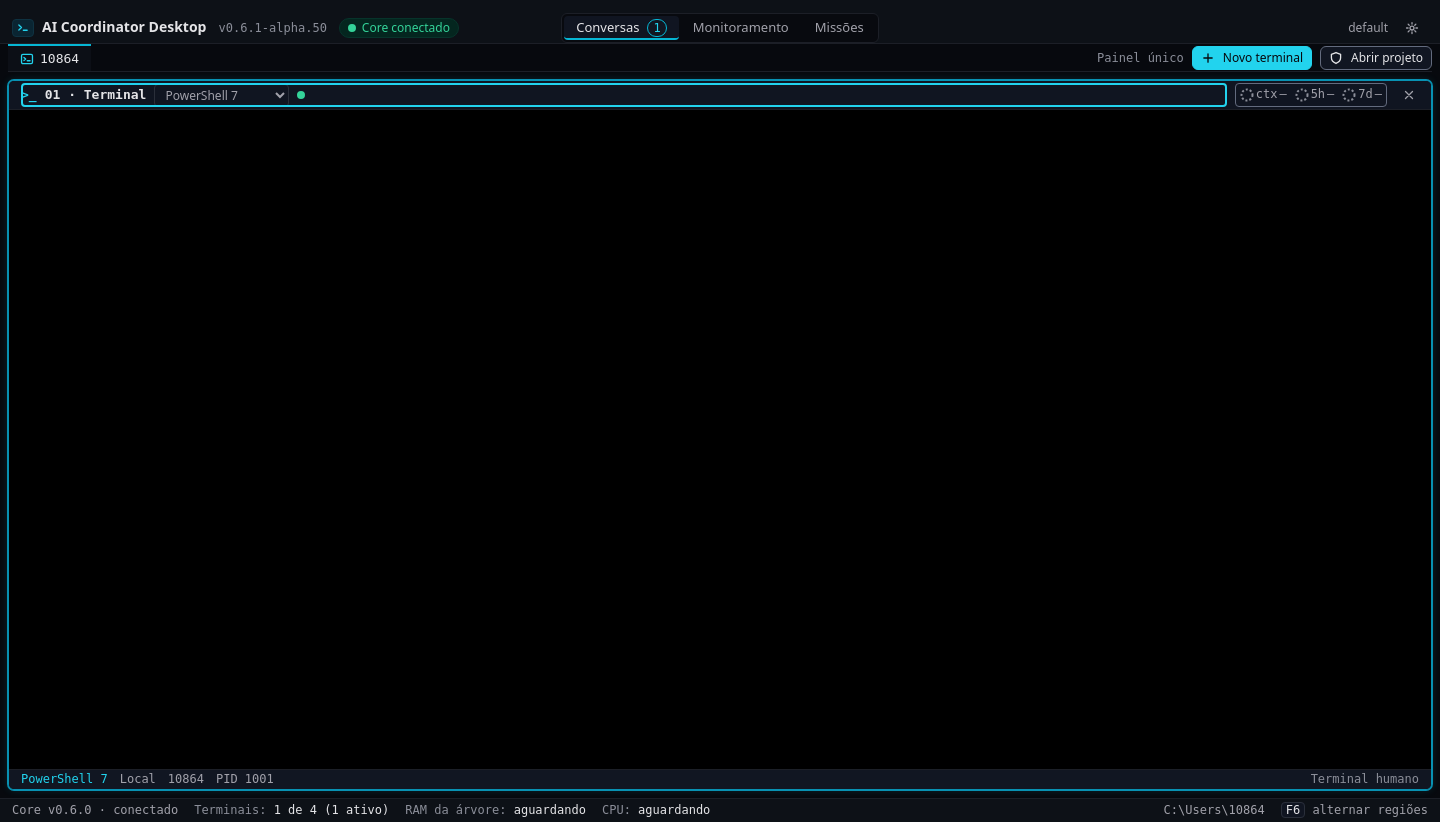
App views › F10 in the interface: open 3, close the middle one, open 1; unique names, focus never on the body
Expected: the text "Core conectado" is shown, left=339, top=18, right=459, bottom=38
Click the button "Novo terminal" at {"x": 1252, "y": 58}, box left=1192, top=46, right=1312, bottom=70
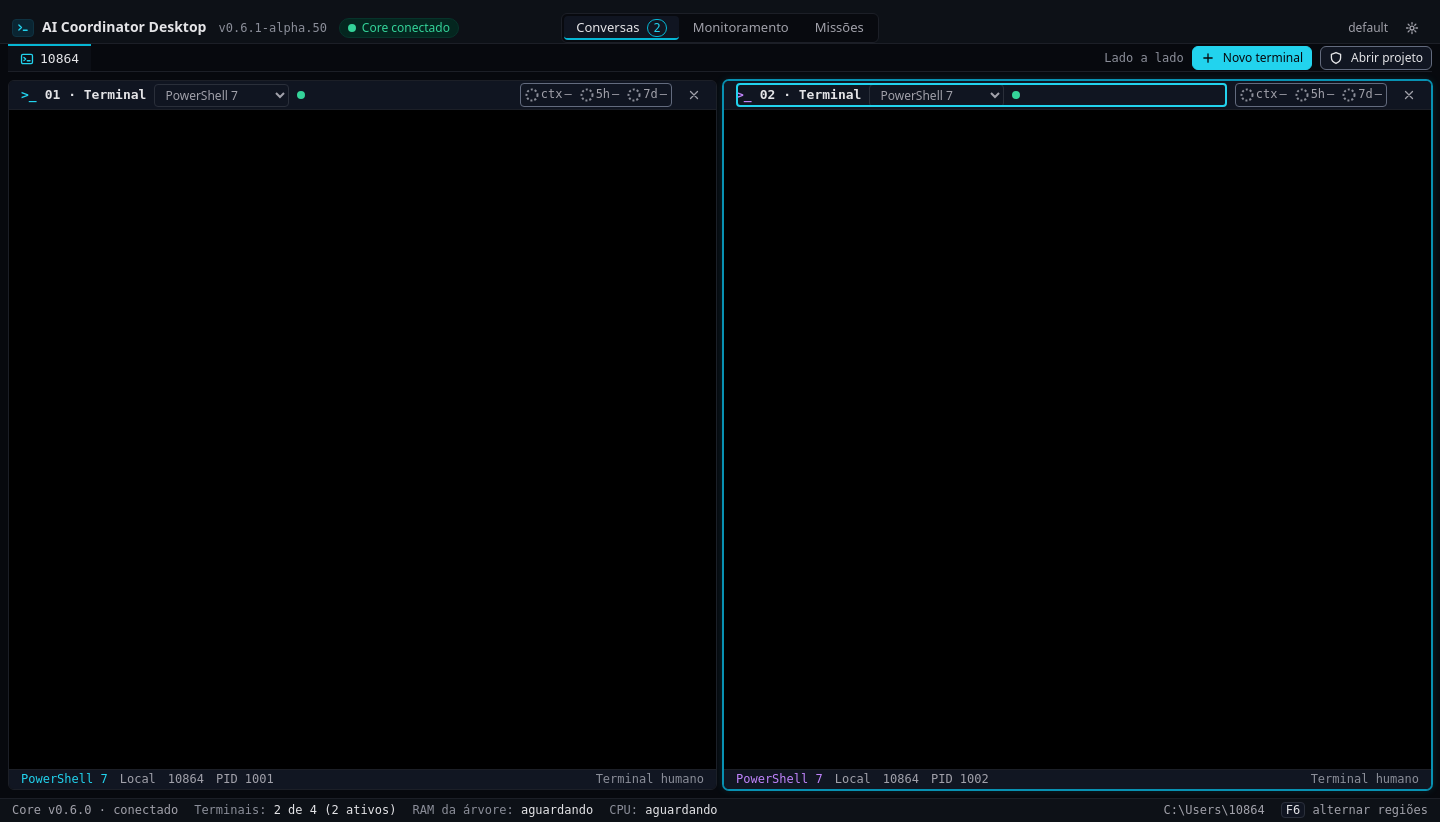
Click the button "Novo terminal" at {"x": 1252, "y": 58}, box left=1192, top=46, right=1312, bottom=70
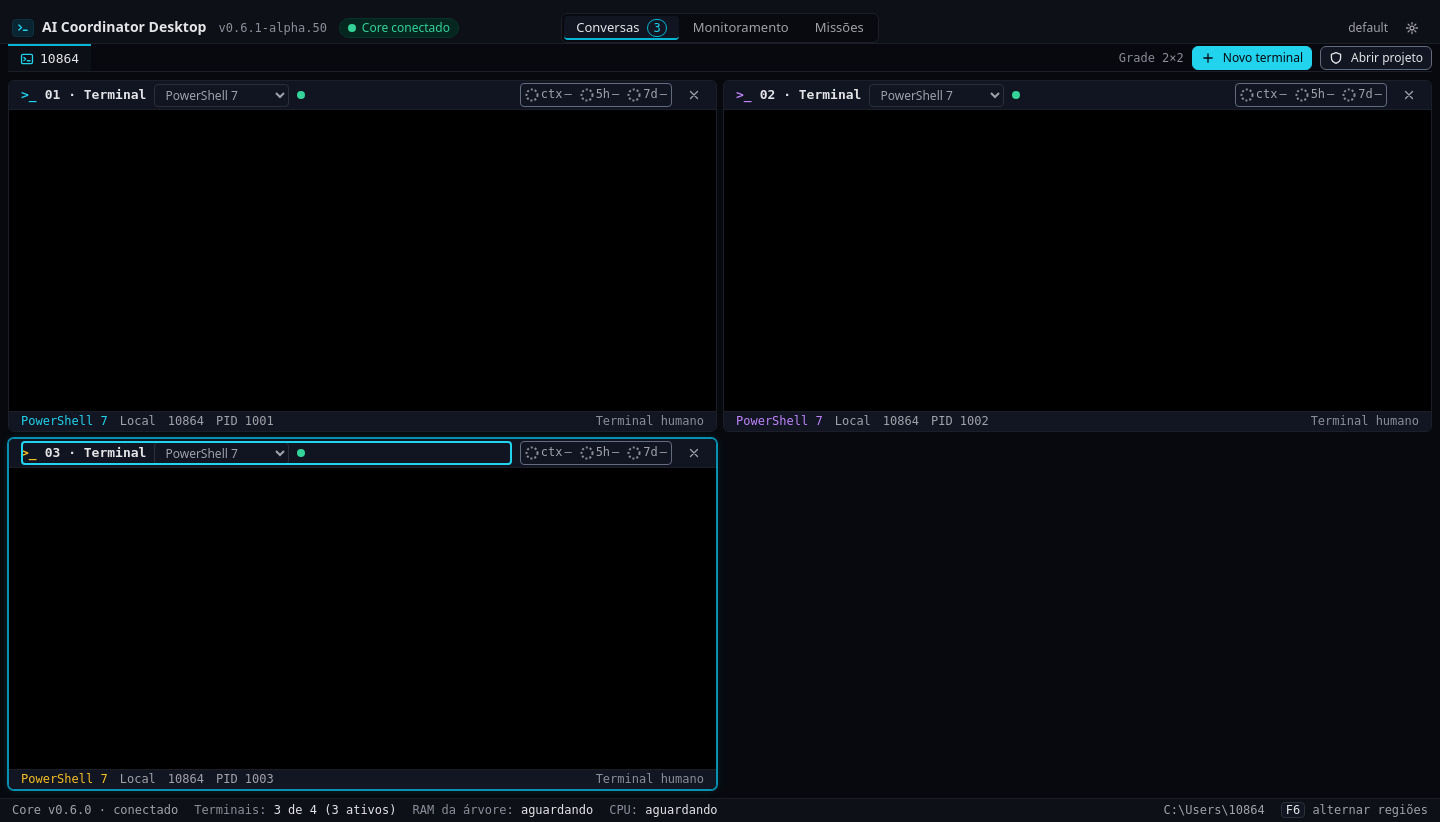
Click the button named "Fechar Terminal 02" at {"x": 1409, "y": 95}, box left=1395, top=83, right=1423, bottom=107
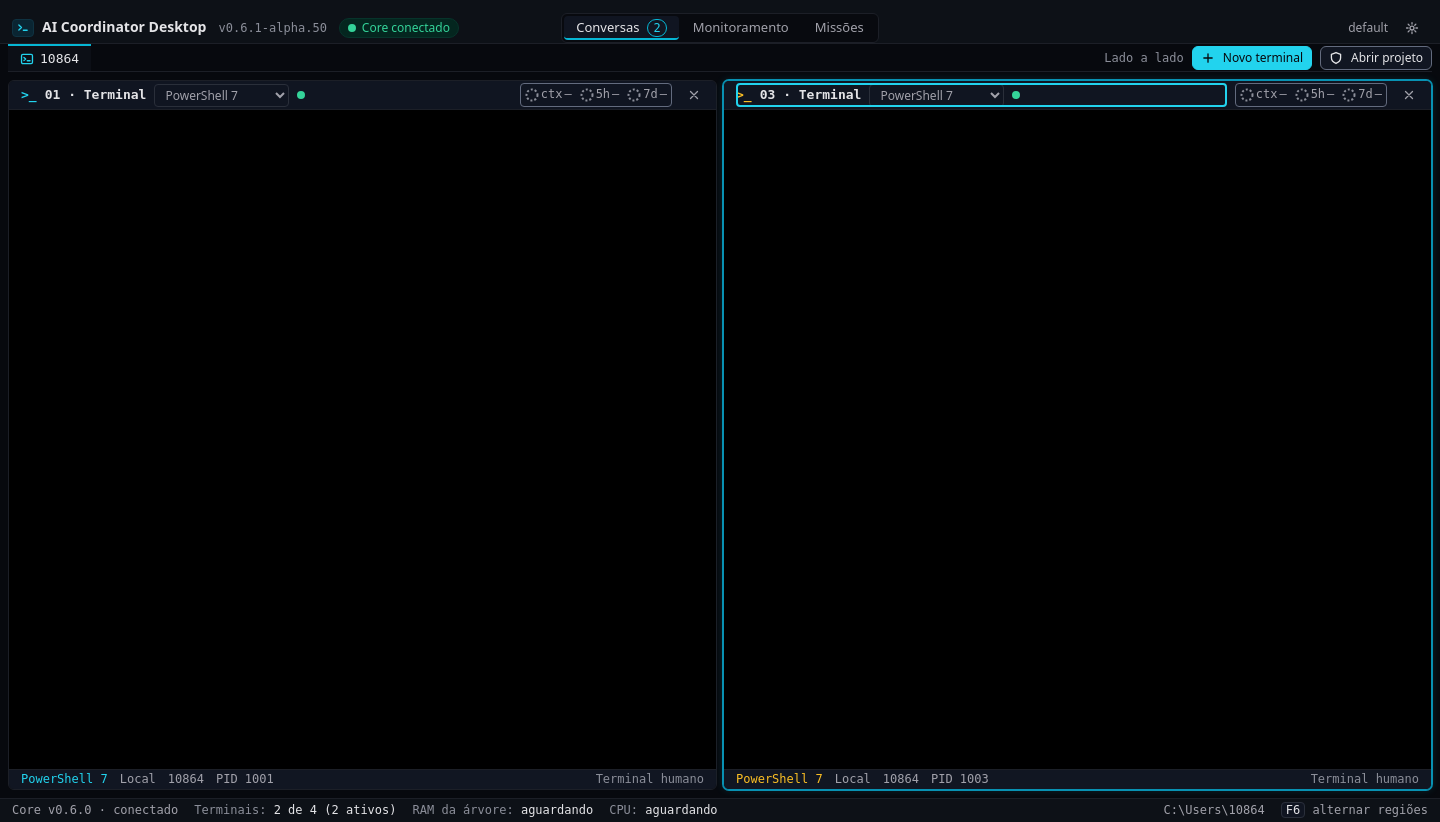
Expected: the element "Terminal 02" is not shown
Click the button "Novo terminal" at {"x": 1252, "y": 58}, box left=1192, top=46, right=1312, bottom=70
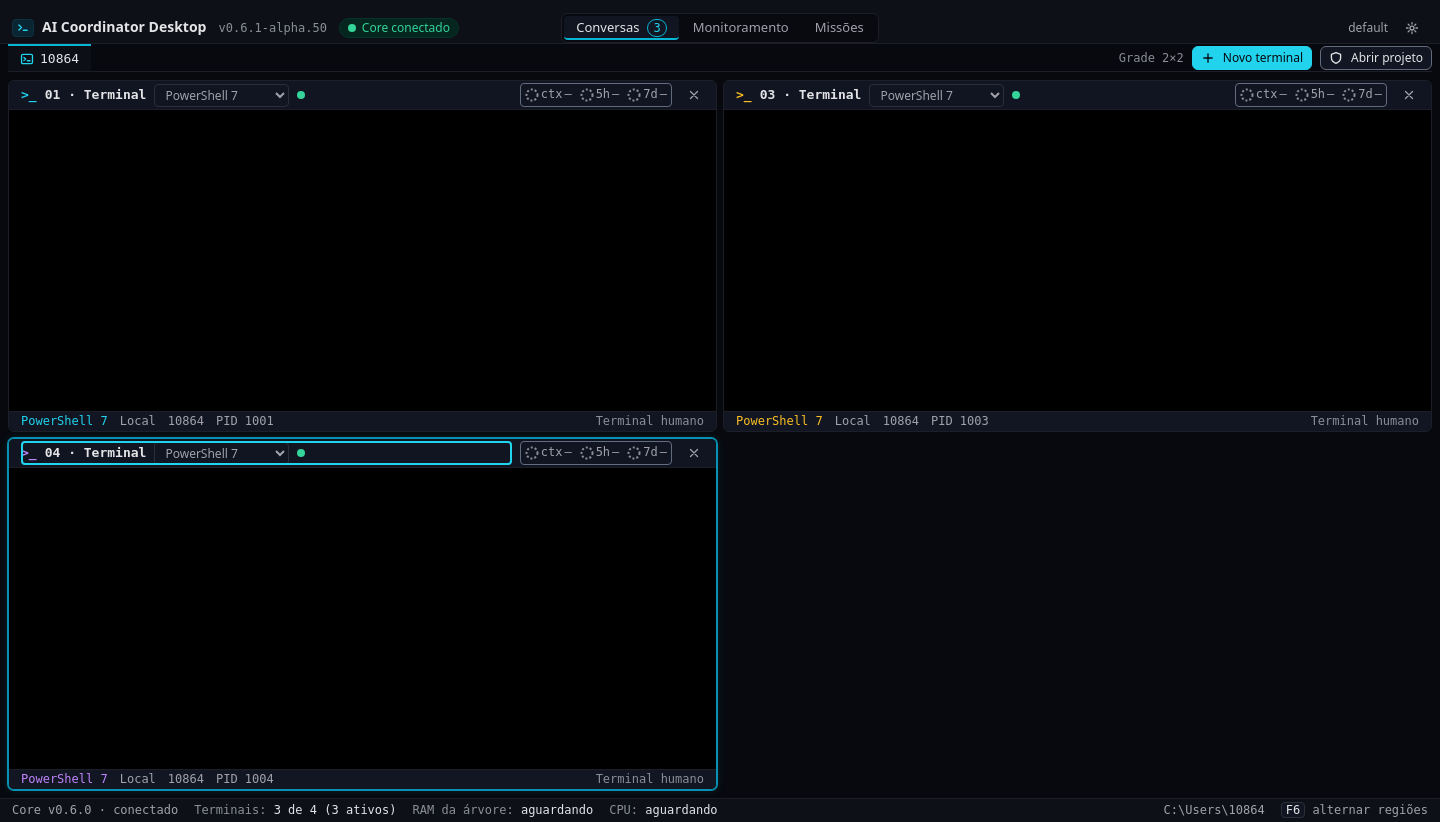
Expected: the text "PowerShell 7" is shown, left=21, top=414, right=108, bottom=429
Expected: the element named "Terminal 04" is shown, left=8, top=438, right=717, bottom=790
Expected: the footer named "Barra de status" shows "Terminais: 3 de 4", left=0, top=798, right=1439, bottom=821
